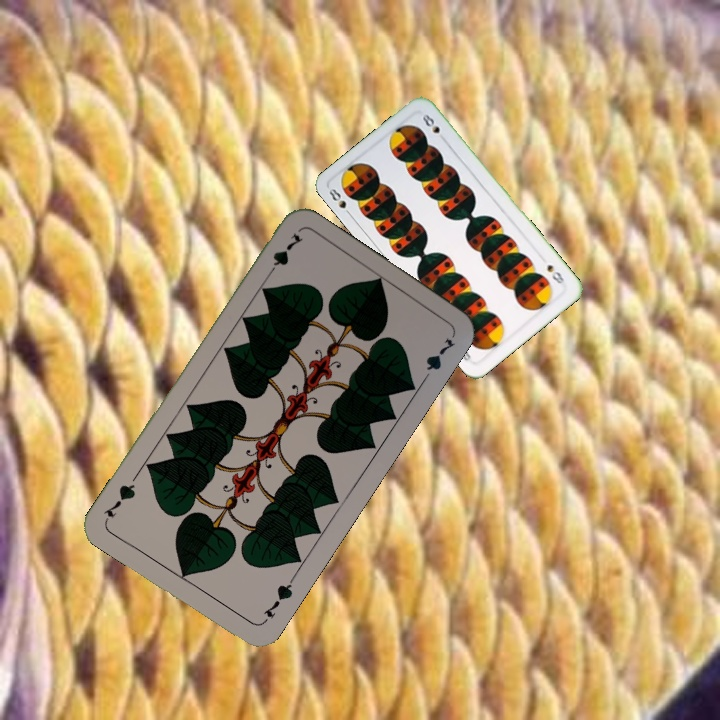G7: (262, 228, 306, 281), (258, 573, 297, 626)
S8: (325, 184, 355, 220), (543, 260, 569, 288)
